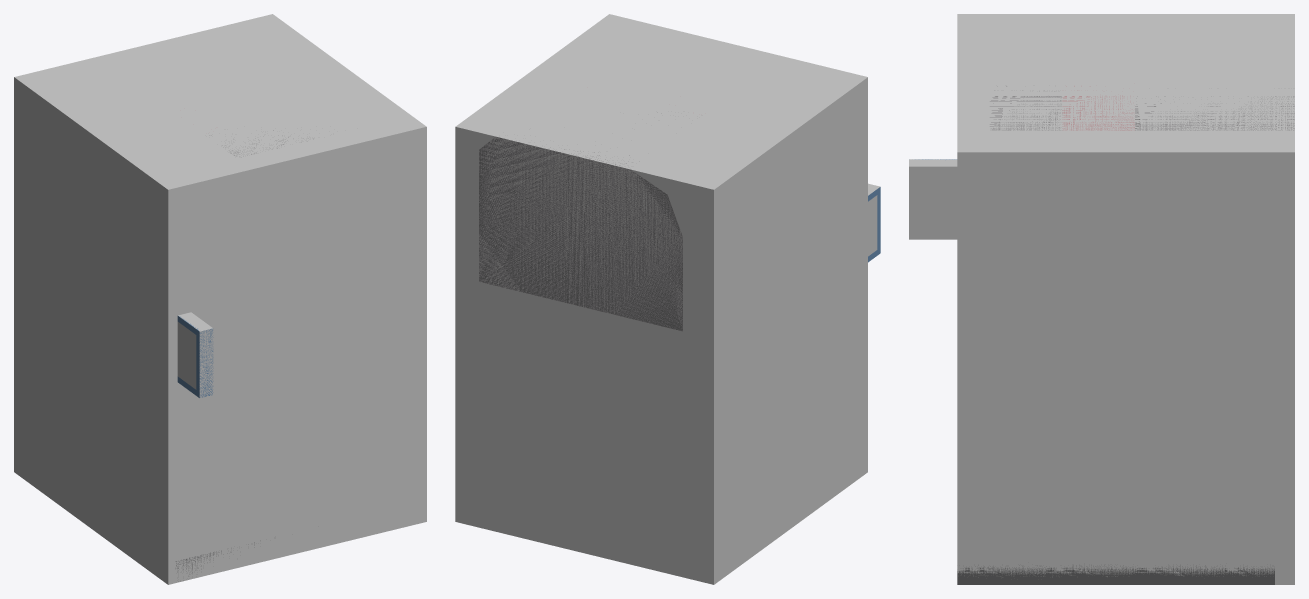
File: SM_VendingMachine_01.fbx
3 views of the same model, side by side, from view 1: azimuth 30°, elevation 25°; view 2: azimuth 150°, elevation 25°; view 3: azimuth 270°, elevation 25° (orthographic). The views are drawn at different scales.
Parts seen in each view (by area): view 1: SM_VendingMachine_01_ConvexHulls, SM_VendingMachine_01; view 2: SM_VendingMachine_01_ConvexHulls, SM_VendingMachine_01; view 3: SM_VendingMachine_01_ConvexHulls, SM_VendingMachine_01.
Part boxes in pixels (bbox=[...]): SM_VendingMachine_01_ConvexHulls: bbox=[14, 14, 426, 584]; SM_VendingMachine_01: bbox=[175, 130, 313, 581]; SM_VendingMachine_01_ConvexHulls: bbox=[455, 14, 879, 584]; SM_VendingMachine_01: bbox=[479, 112, 880, 331]; SM_VendingMachine_01_ConvexHulls: bbox=[909, 14, 1294, 584]; SM_VendingMachine_01: bbox=[915, 86, 1294, 584].
Bounding box in the file's own units: 149 × 176 × 218.
